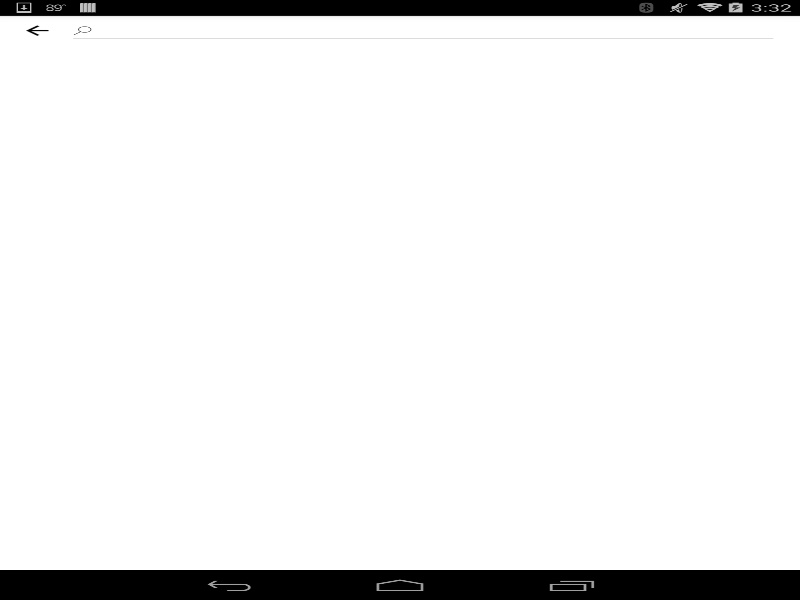Input: (106, 15, 746, 45)
